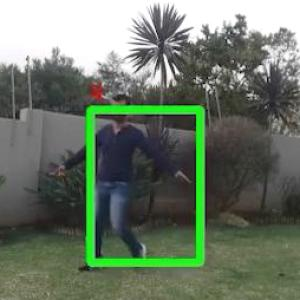land: (50, 91, 196, 270)
